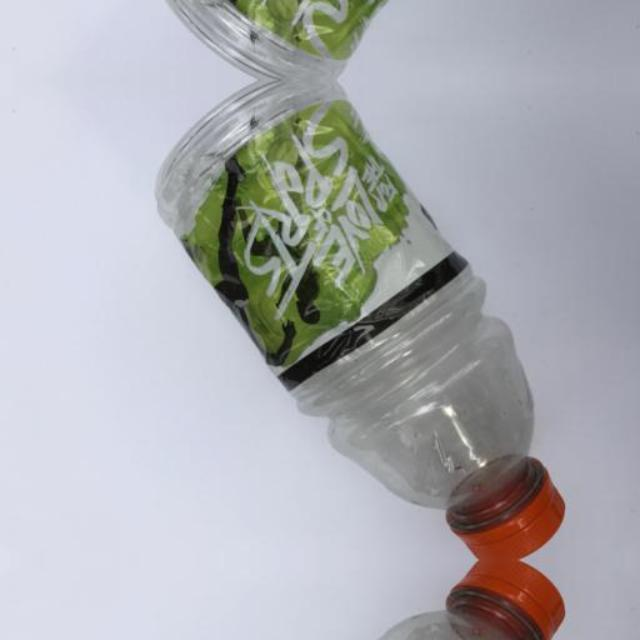Plastic: (137, 80, 588, 558), (137, 0, 588, 80), (137, 561, 588, 640)
